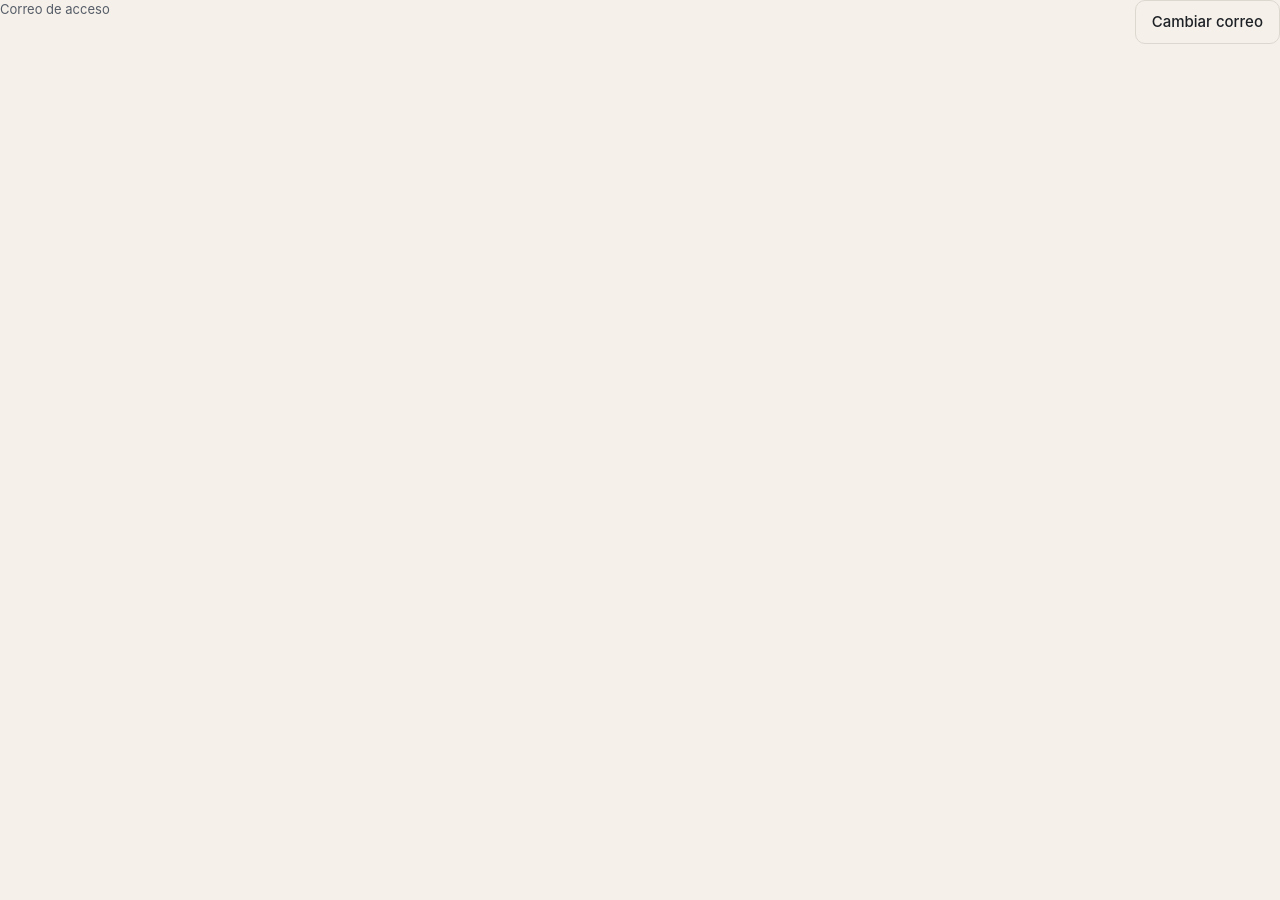
Test: login email editor › provides Spanish consent
Click the button "Cambiar correo": (1207, 22) [1135,0,1279,44]
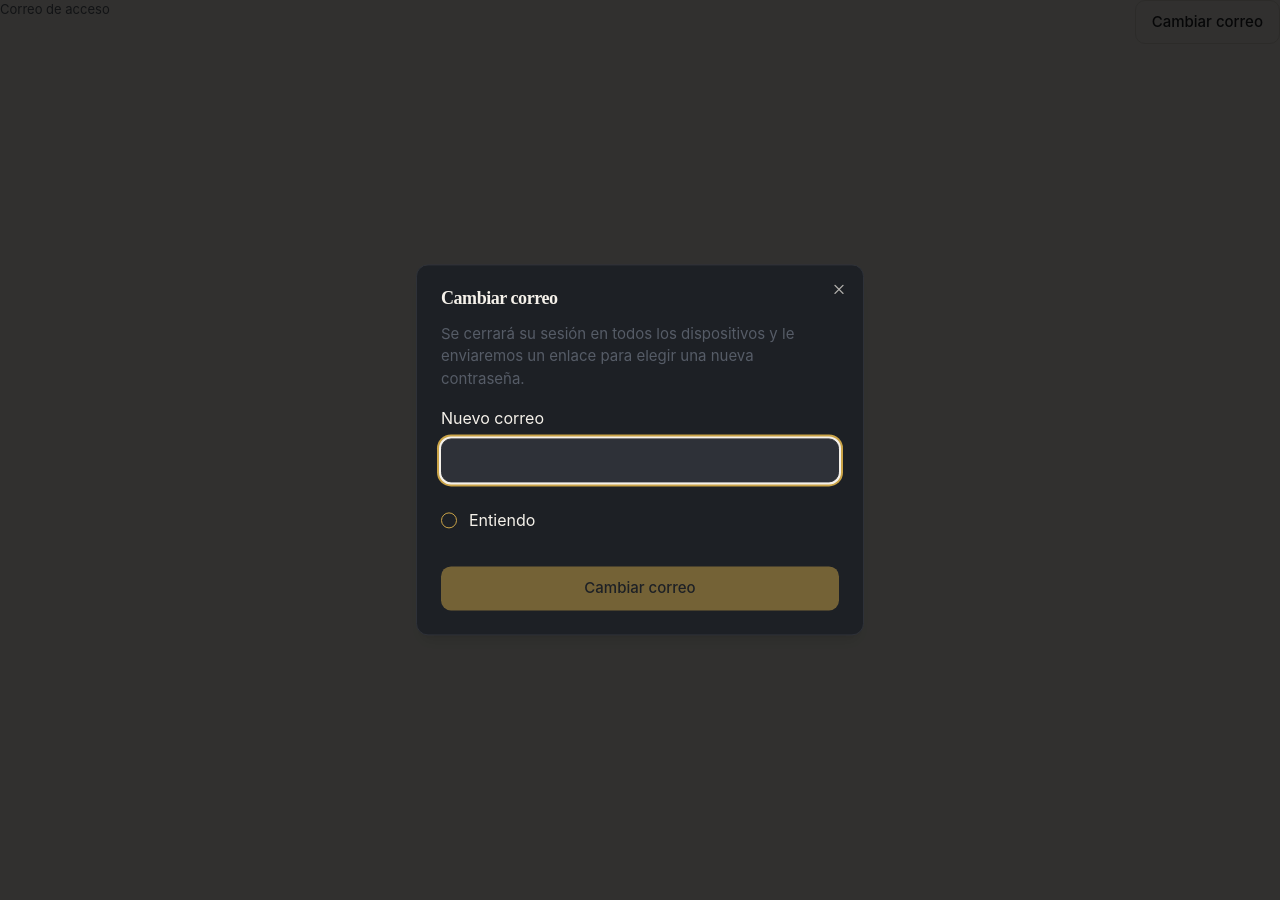
Expected: the checkbox named "Entiendo" is not checked, [441,513,457,529]
